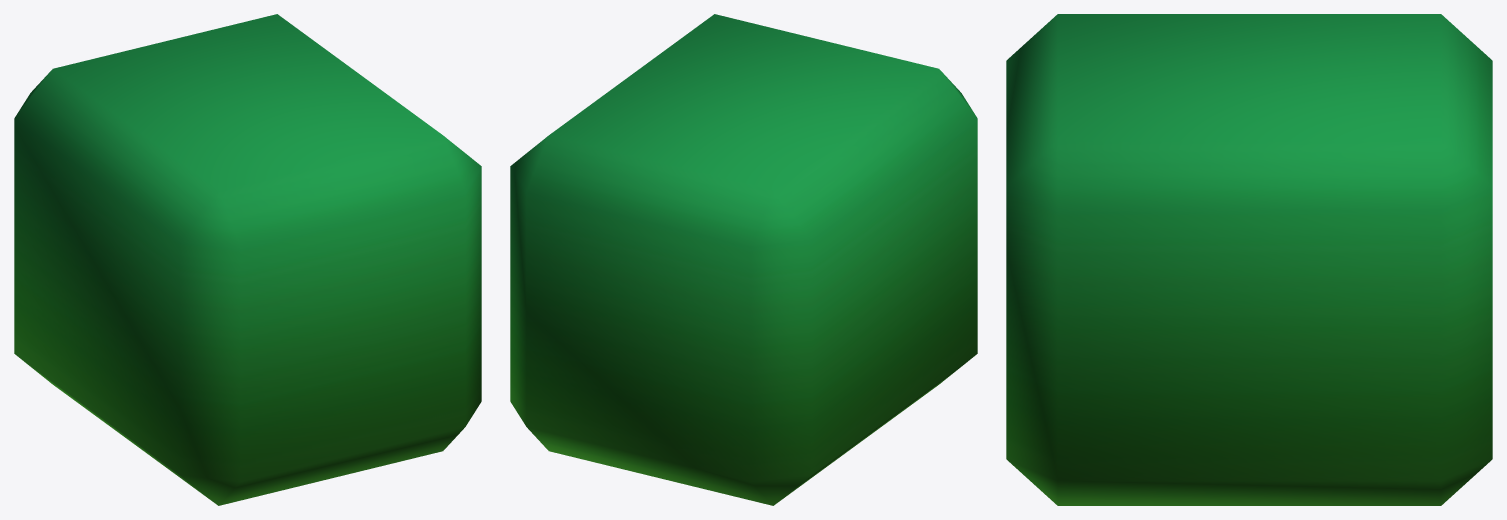
The model's file is Bush_1_A_3.fbx.
3 views of the same model, side by side, from view 1: azimuth 30°, elevation 25°; view 2: azimuth 150°, elevation 25°; view 3: azimuth 270°, elevation 25° (orthographic). The views are drawn at different scales.
Parts seen in each view (by area): view 1: Bush_1_A_3; view 2: Bush_1_A_3; view 3: Bush_1_A_3.
Part boxes in pixels (x1,y1,x2,y2): Bush_1_A_3: (14,14,481,505); Bush_1_A_3: (510,14,977,505); Bush_1_A_3: (1006,14,1492,505).
Bounding box in the file's own units: 61.94 × 61.94 × 74.78.
